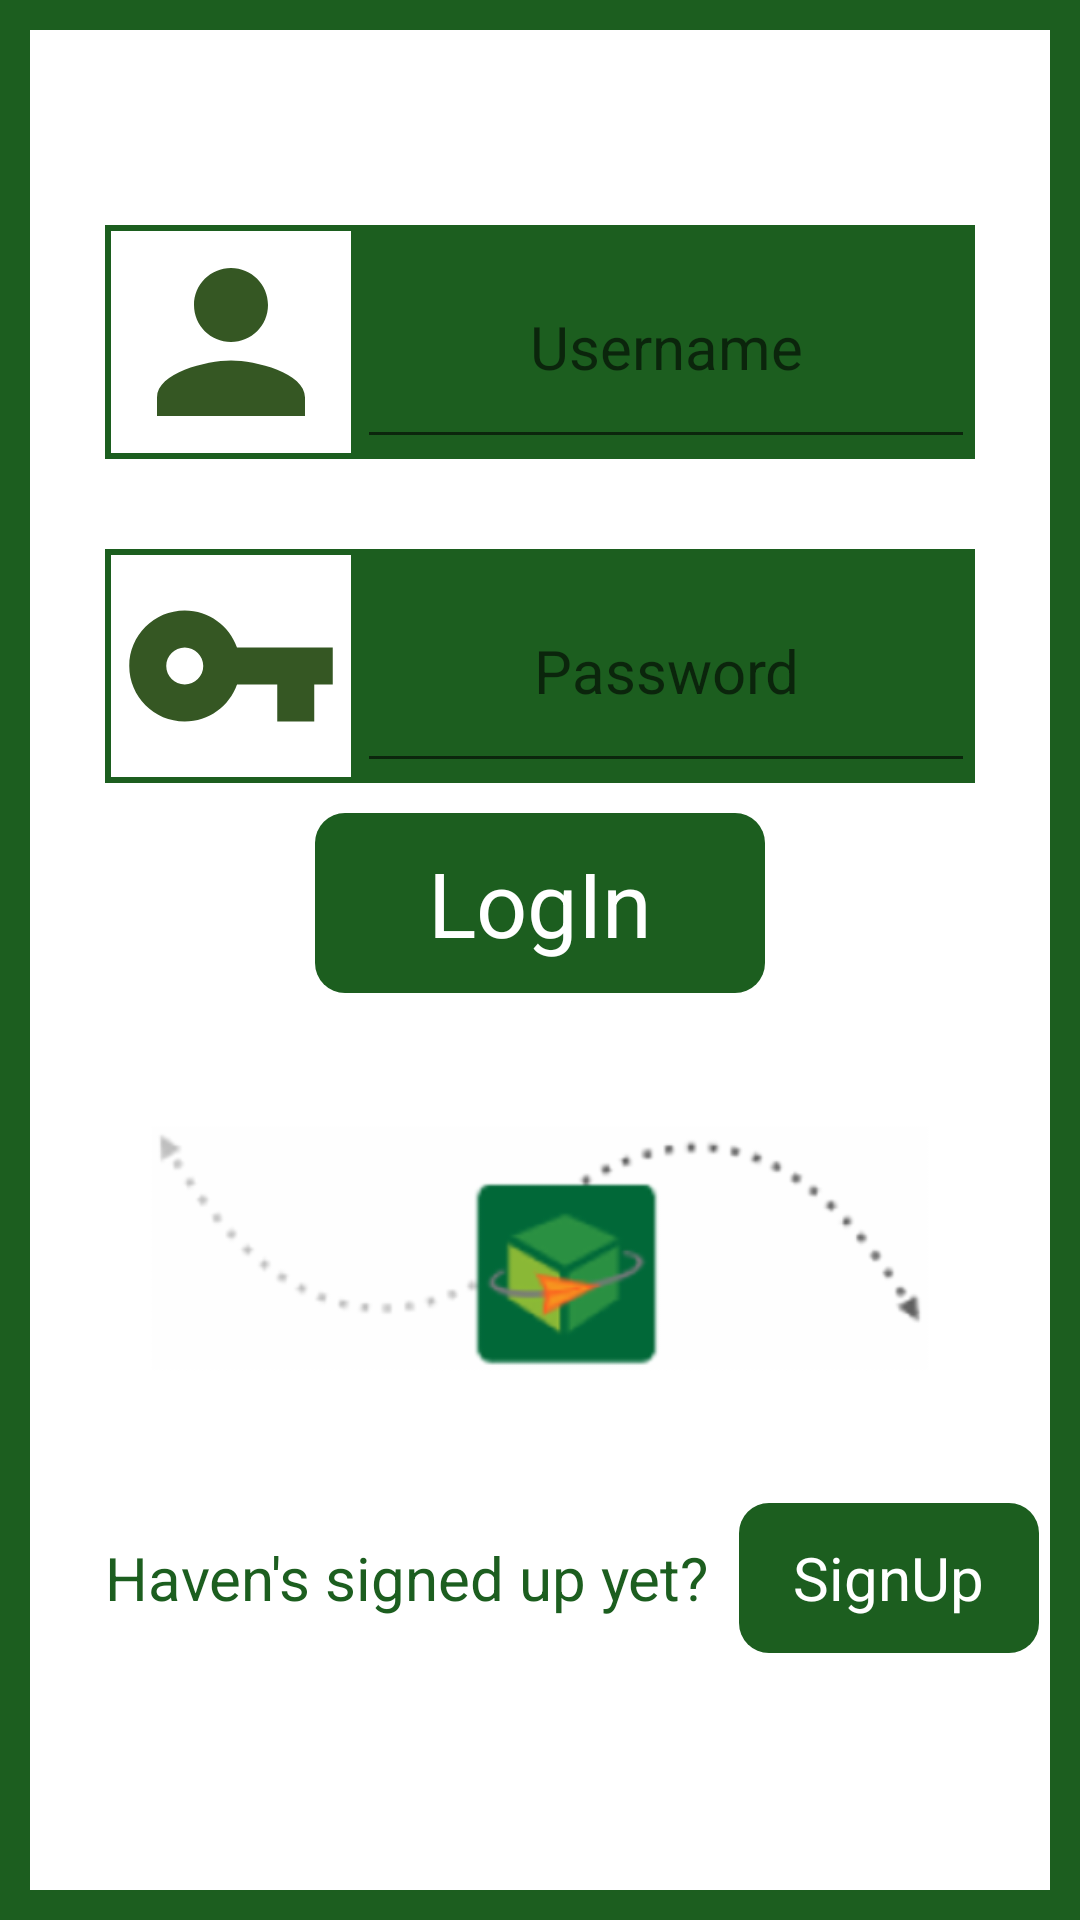

Named icons in this screenshot (1080*1920) and their centers, [x,y]:
person: [231,342]
vpn key: [231,666]
